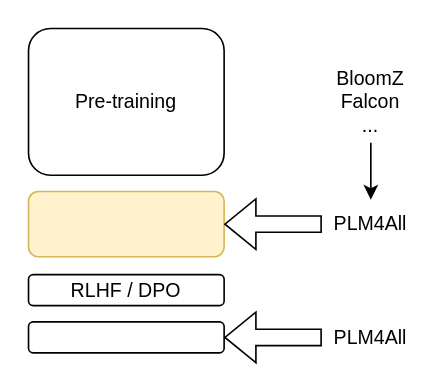
This 448x391 diagram has some shape labels left out. The shapes that lost their labels are listed below. From the top down, each one's centre as x and y in pixels, then its label:
At [125,223]: "Finetuning".
At [125,336]: "Inference".
